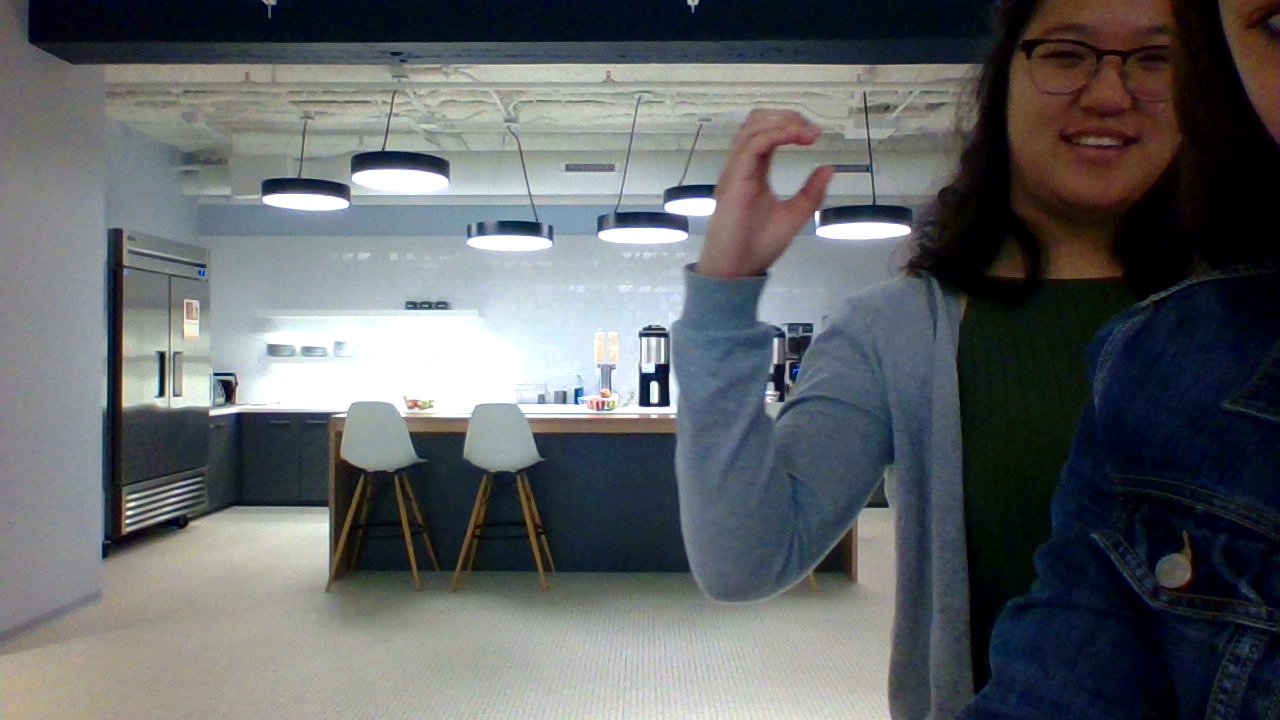c: (684, 94, 845, 294)
